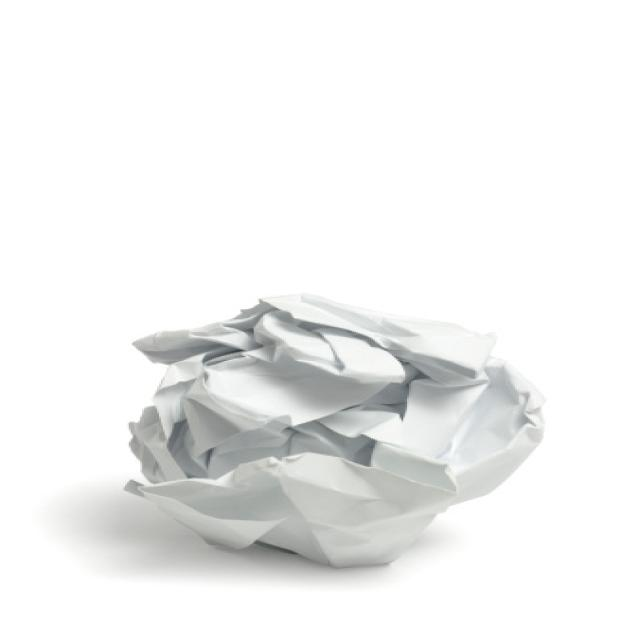paper: (40, 263, 564, 575)
